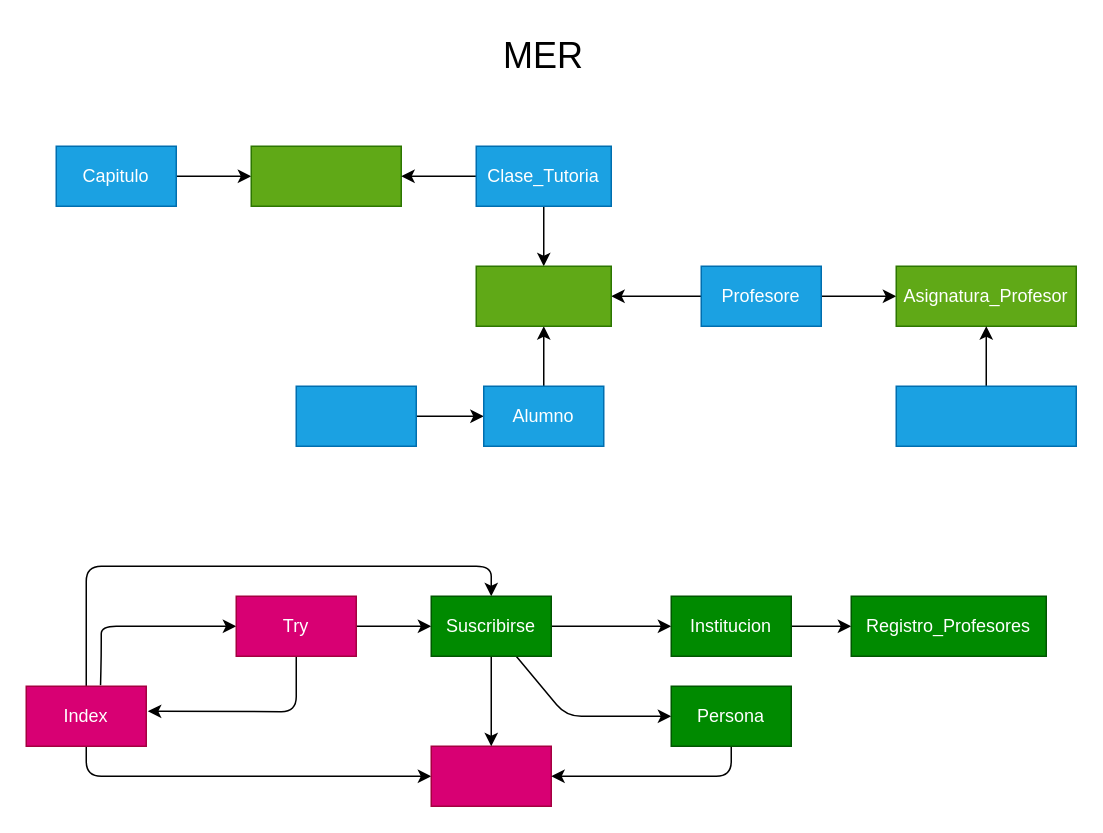
Some shapes in this 1103 by 833 pixel diagram are drawn without their labels. Here are the shapes that lost their labels. From the top down, the centre of each, then its label:
At (325,175): "Capitulo_Clase".
At (543,295): "Clase_Alumno".
At (355,415): "Curso".
At (985,415): "Asignatura".
At (490,775): "Login".
